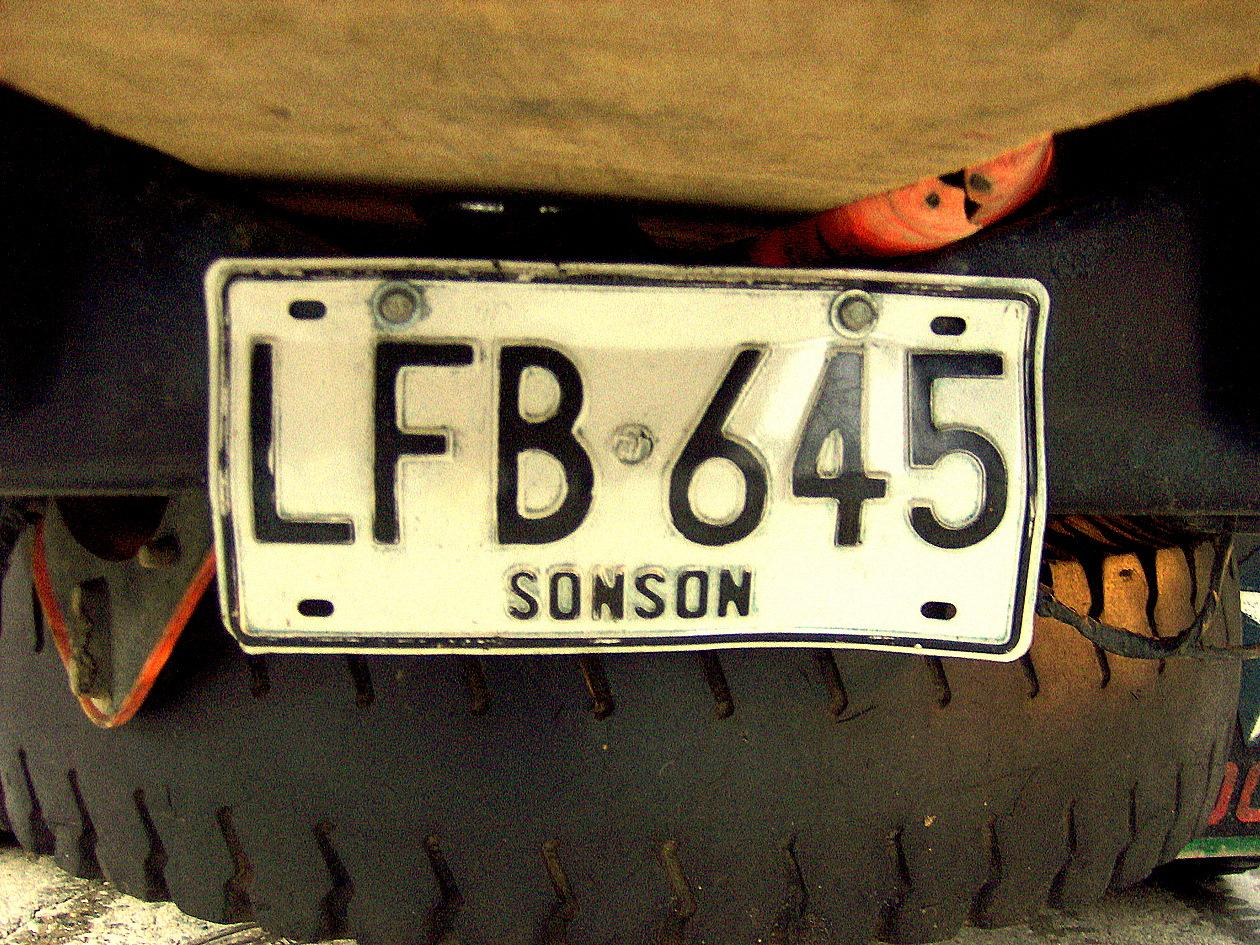placas: (189, 228, 1060, 668)
